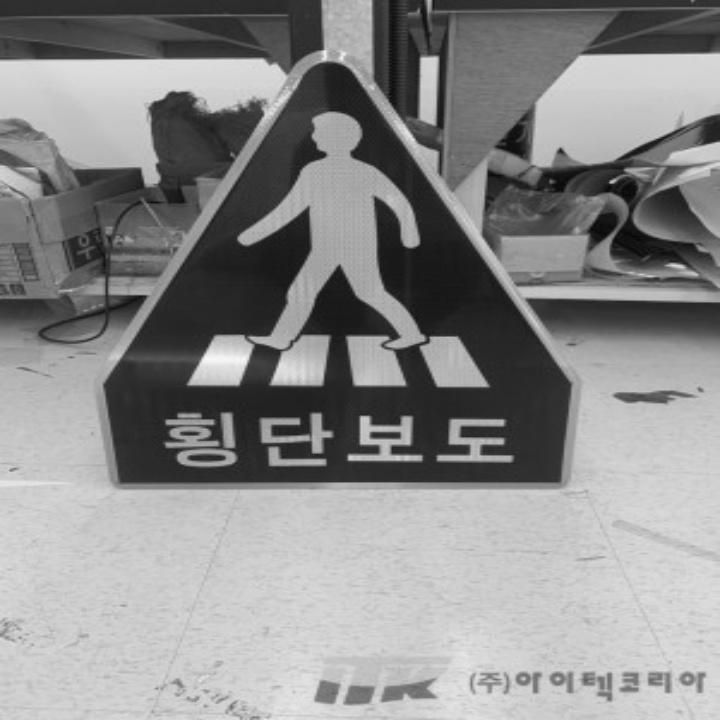cross: (159, 92, 504, 391)
